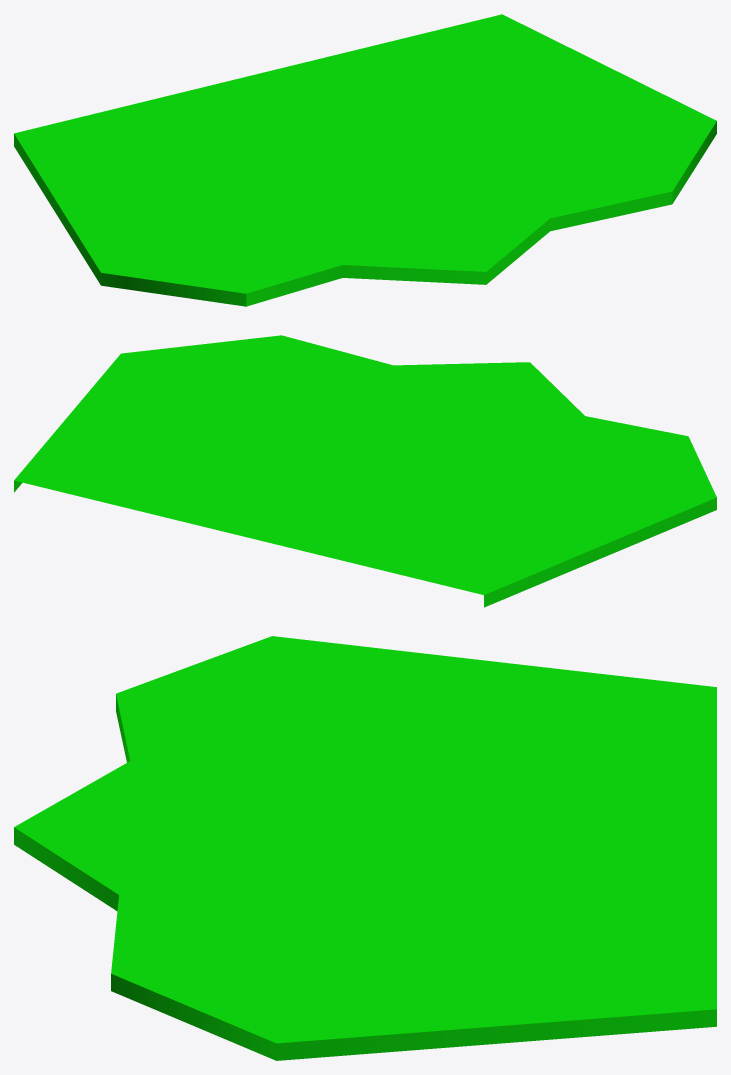
Rendered from m_grass.fbx.
The picture shows the model from 3 angles, top to bottom: view 1: azimuth 30°, elevation 25°; view 2: azimuth 150°, elevation 25°; view 3: azimuth 270°, elevation 25°; orthographic projection. The views are drawn at different scales.
Parts seen in each view (by area): view 1: m_grass; view 2: m_grass; view 3: m_grass.
Boxes of the visible parts, x1,y1,x2,y2 form: m_grass: (14, 14, 716, 306); m_grass: (14, 335, 716, 607); m_grass: (14, 636, 716, 1060).
Size of the model in its own units: 3.23 by 0.0646 by 2.35.
